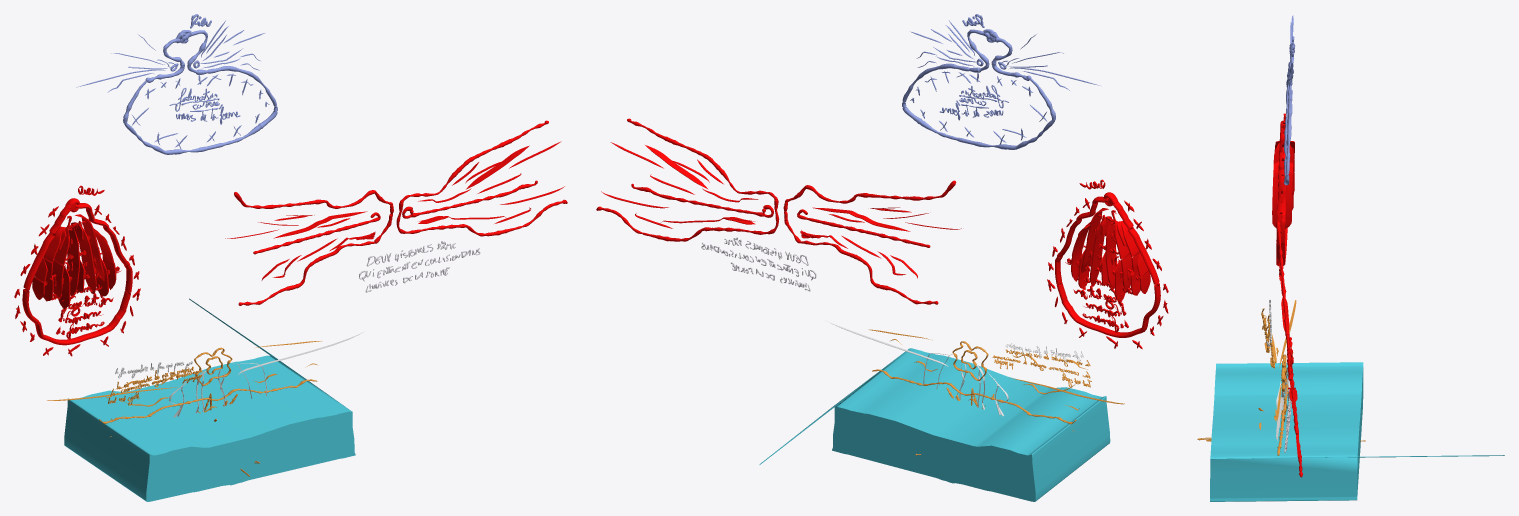
The model's file is Constellation.glb.
The picture shows the model from 3 angles, left to right: view 1: azimuth 30°, elevation 25°; view 2: azimuth 150°, elevation 25°; view 3: azimuth 270°, elevation 25°; orthographic projection. The views are drawn at different scales.
Visible parts, largest first — view 1: GPencil_Filled.001, Suzanne_Tube, Suzanne_Ribbon, jets et conotours, contour, étoile et jets, texte, Suzanne_Tube.001; view 2: GPencil_Filled.001, Suzanne_Tube, Suzanne_Ribbon, jets et conotours, contour, étoile et jets, texte, Suzanne_Tube.001; view 3: GPencil_Filled.001, Suzanne_Tube, Suzanne_Ribbon, jets et conotours, contour, étoile et jets.
Boxes of the visible parts, box(x1,y1,x2,y2) form: GPencil_Filled.001: box(47, 298, 364, 501); Suzanne_Tube: box(225, 120, 567, 305); Suzanne_Ribbon: box(76, 14, 277, 154); jets et conotours: box(23, 201, 132, 344); contour: box(22, 203, 132, 345); étoile et jets: box(14, 185, 140, 356); texte: box(45, 215, 121, 339); Suzanne_Tube.001: box(359, 241, 480, 292); GPencil_Filled.001: box(759, 320, 1124, 501); Suzanne_Tube: box(596, 118, 961, 304); Suzanne_Ribbon: box(902, 14, 1100, 149); jets et conotours: box(1055, 196, 1159, 337); contour: box(1055, 196, 1160, 337); étoile et jets: box(1047, 179, 1168, 349); texte: box(1065, 210, 1140, 332); Suzanne_Tube.001: box(701, 237, 816, 291); GPencil_Filled.001: box(1197, 299, 1504, 501); Suzanne_Tube: box(1276, 220, 1302, 477); Suzanne_Ribbon: box(1283, 15, 1295, 185); jets et conotours: box(1272, 122, 1294, 264); contour: box(1276, 127, 1287, 266); étoile et jets: box(1272, 113, 1294, 280).
Bounding box in the file's own units: 31.13 × 23.72 × 15.68.
